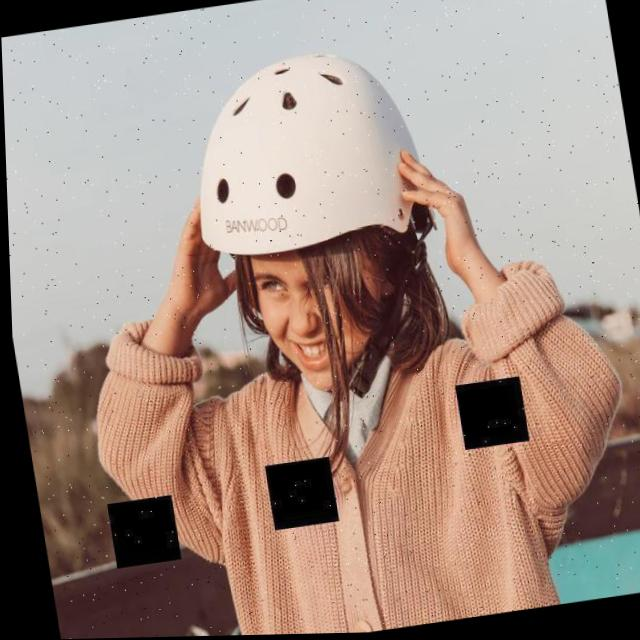helmet: (173, 33, 454, 418)
